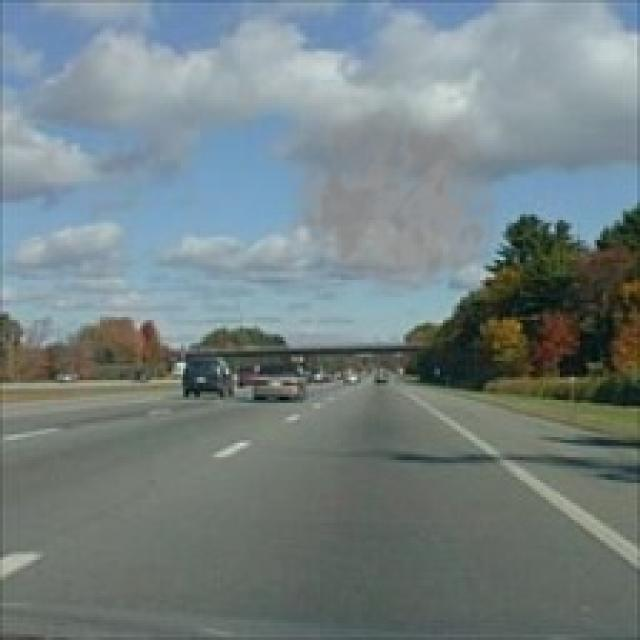smoke: (272, 83, 508, 300)
